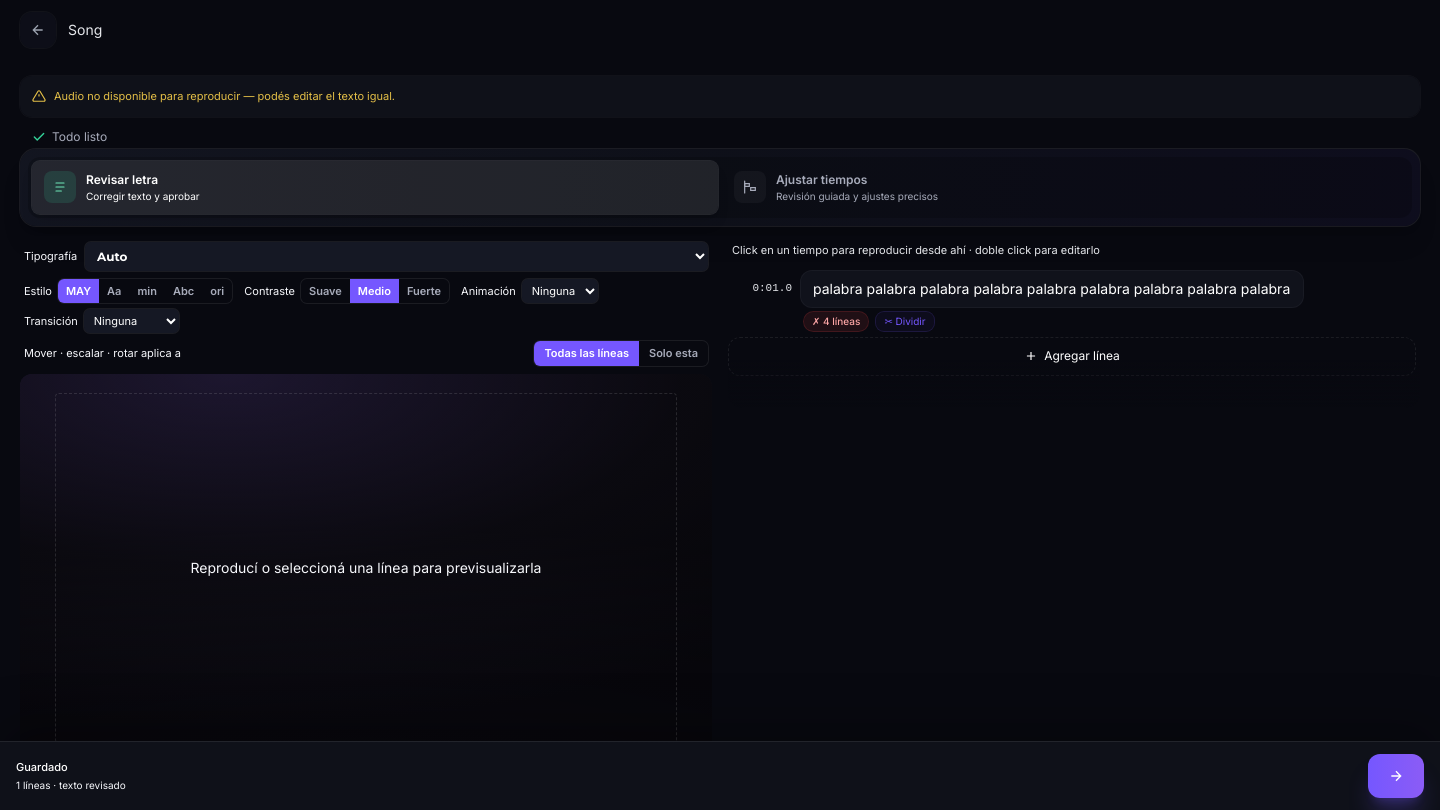
LyricsEditor — aprobación con advertencia de tipografía › muestra la decisión en un diálogo visible y permite aprobar igualmente
This screenshot has width=1440, height=810.
Click the button named "Aprobar y generar". click: point(1396, 776)
box: [1368,754,1424,798]
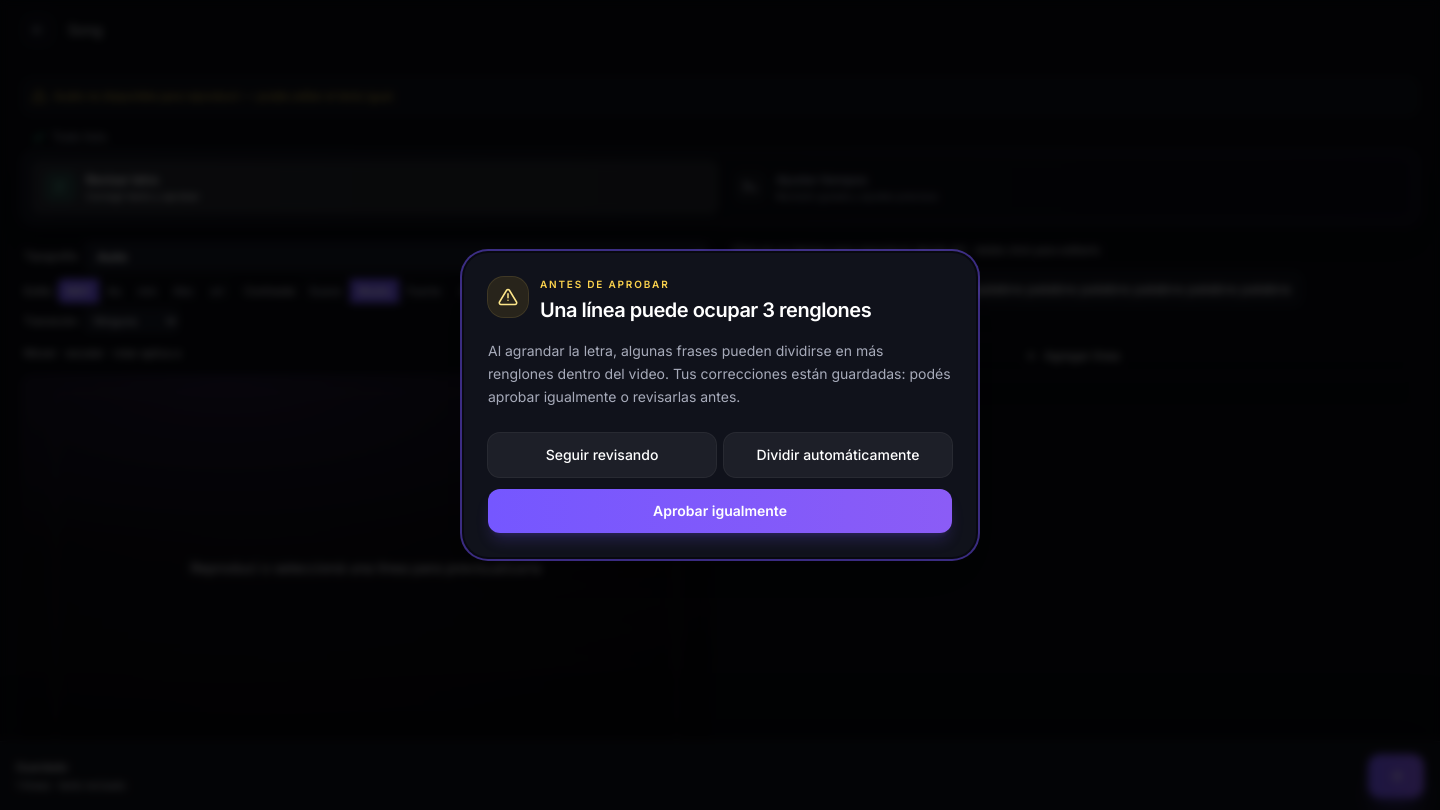
Expected: the dialog "Una línea puede ocupar 3 renglones" is shown, [464,253,976,557]
Click the button "Aprobar igualmente". click: point(720, 511)
box: [488,489,952,533]
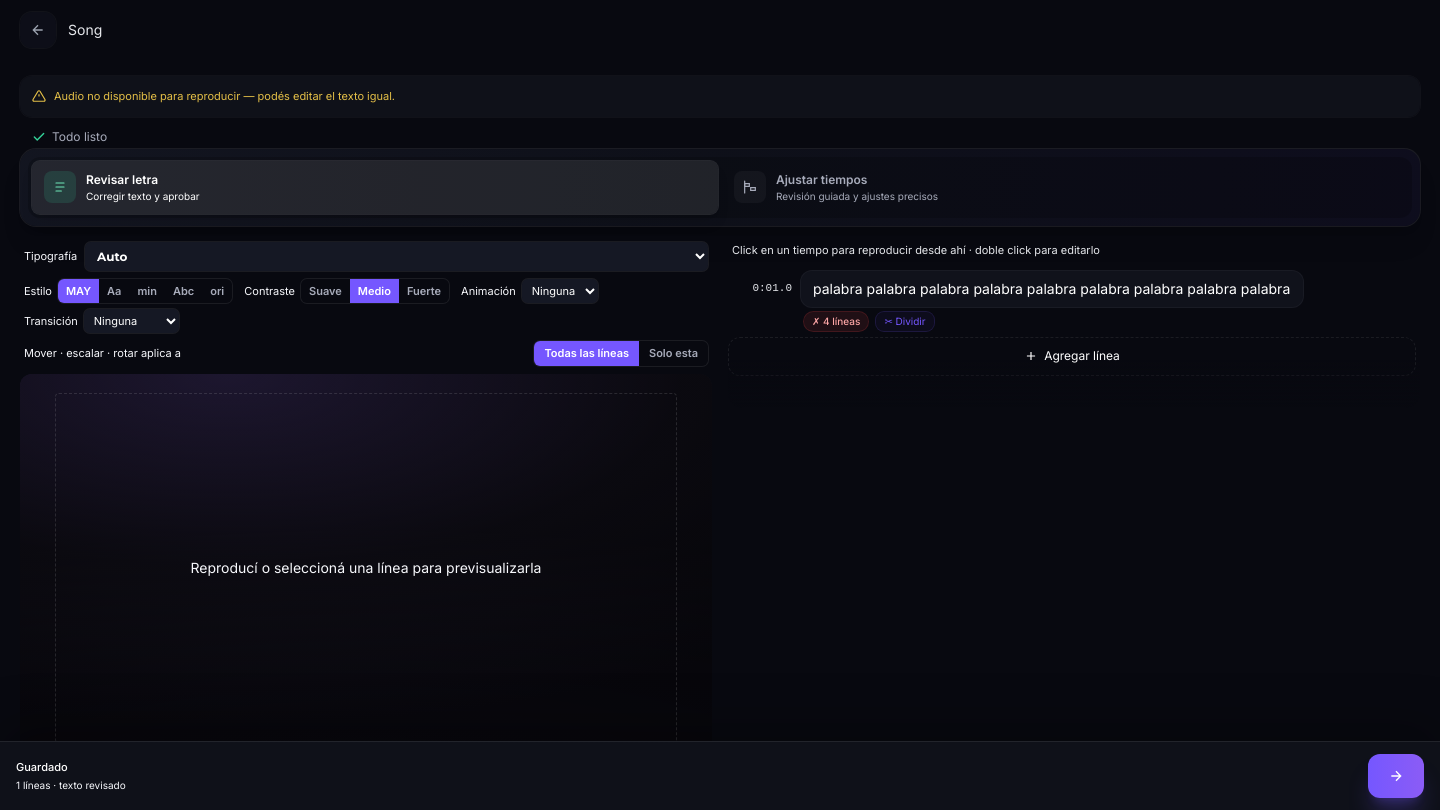
Expected: the heading "puede ocupar 3 renglones" is gone
